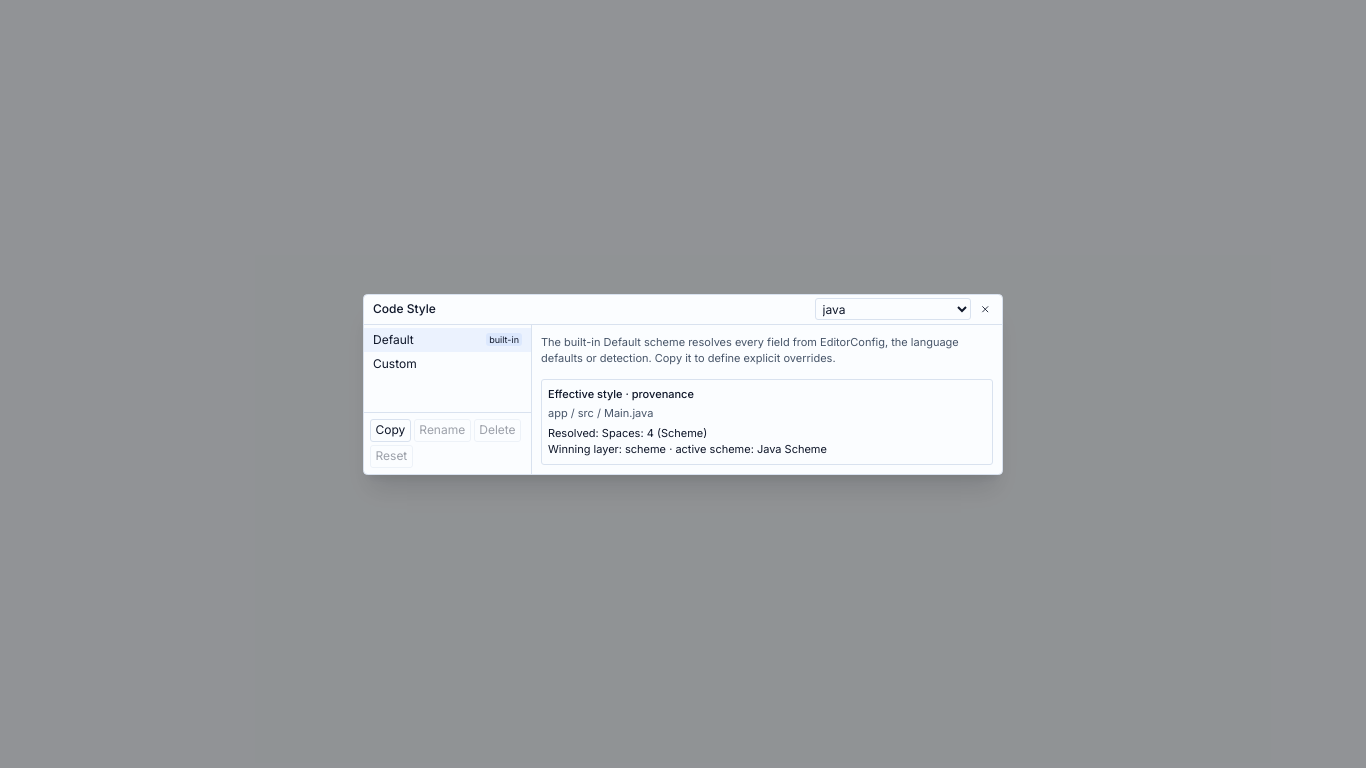
Test: §8.19.9 R8-D1 Code Style settings dialog › displays per-field provenance tag
Click the option with test id "code-style-scheme-row-s1". click: (448,364)
box: [364, 352, 531, 376]
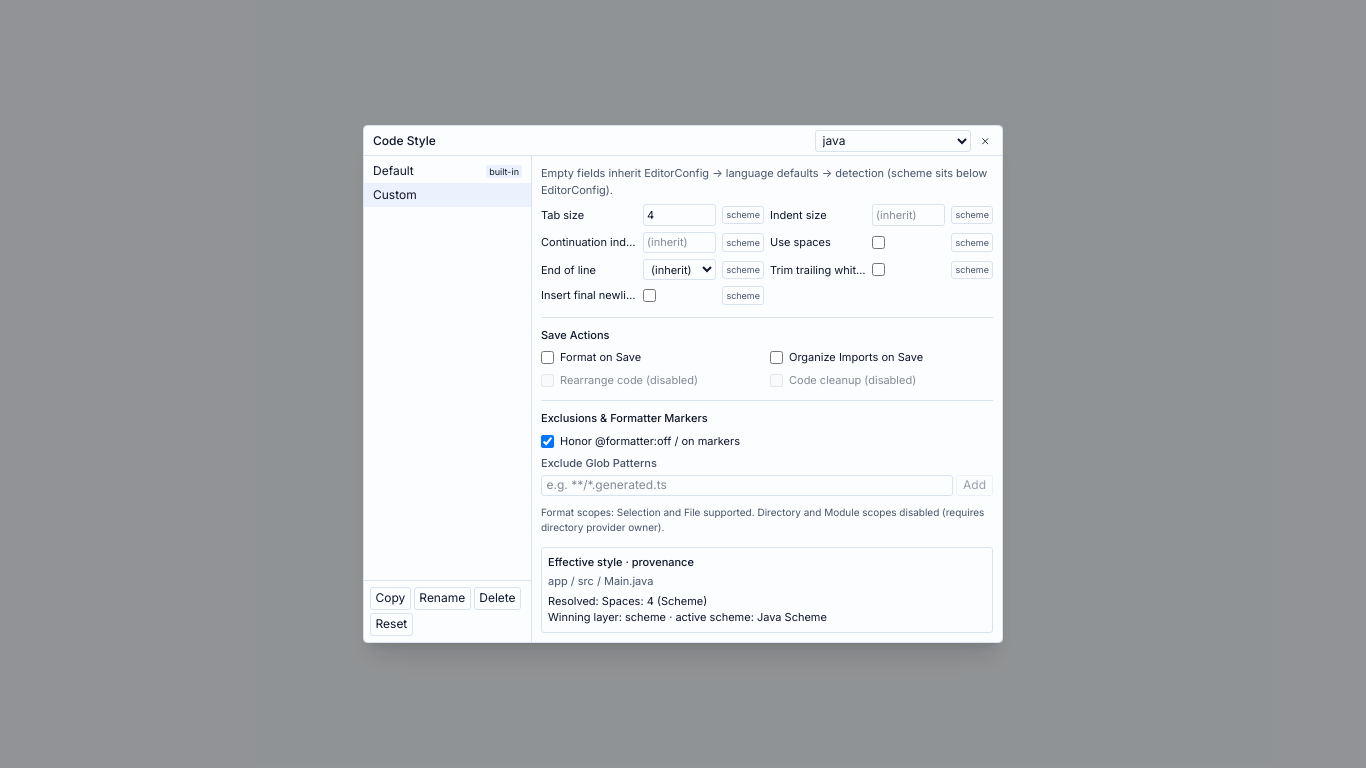
Check: the text with test id "code-style-field-provenance-tabSize" reads "scheme", box [726, 209, 760, 220]
